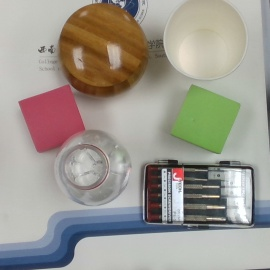bottle: (51, 129, 132, 205)
chess: (57, 4, 149, 98)
cup: (163, 1, 248, 80)
